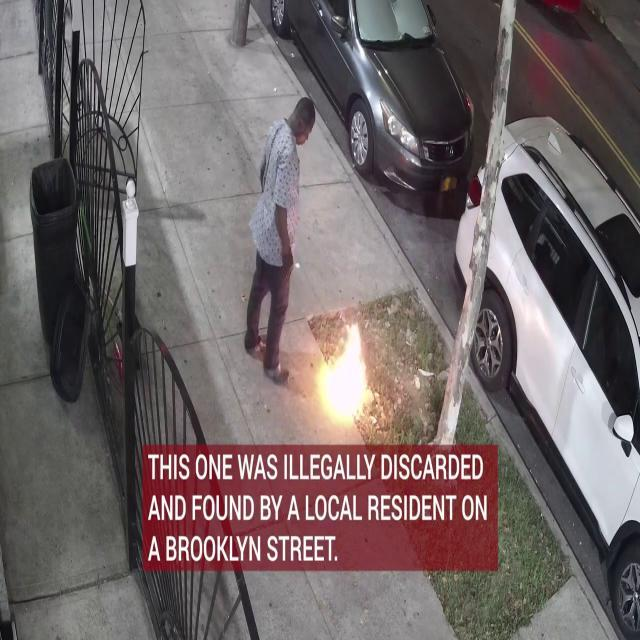Fire: (315, 314, 377, 426)
